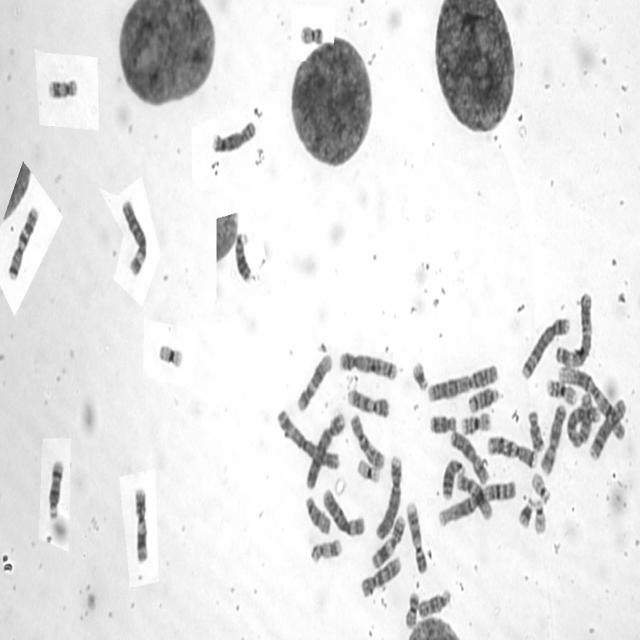A1: (555, 364, 627, 441), (437, 477, 517, 528)
A2: (425, 360, 499, 403), (564, 392, 602, 449)
A3: (274, 406, 341, 471), (553, 288, 594, 370)
B4: (304, 409, 347, 491), (374, 450, 404, 541)
B5: (520, 314, 571, 381), (338, 348, 399, 382)
C10: (347, 410, 386, 471), (358, 552, 402, 598)
C11: (369, 511, 406, 570), (132, 484, 150, 564)
C12: (294, 349, 333, 414), (454, 470, 493, 521)
C6: (321, 484, 366, 538), (119, 197, 148, 277)
C7: (6, 202, 40, 282), (485, 432, 538, 469)
C8: (588, 394, 628, 462), (210, 116, 257, 154)
C9: (404, 498, 428, 575), (346, 385, 390, 419)
D13: (440, 455, 466, 500), (233, 228, 252, 283)
D14: (46, 455, 65, 521), (467, 384, 501, 414)
D15: (416, 586, 452, 620), (304, 493, 332, 536)
E16: (544, 374, 578, 406), (459, 408, 493, 436)
E17: (46, 72, 79, 102), (308, 536, 343, 564)
E18: (527, 407, 545, 452), (428, 411, 458, 435)
F19: (157, 339, 184, 369), (355, 455, 381, 485)
F20: (403, 588, 420, 631), (298, 21, 325, 46)
G21: (410, 358, 430, 393), (516, 493, 534, 528)
G22: (531, 469, 551, 505), (532, 496, 548, 535)
X: (448, 428, 490, 486), (538, 401, 567, 476)
